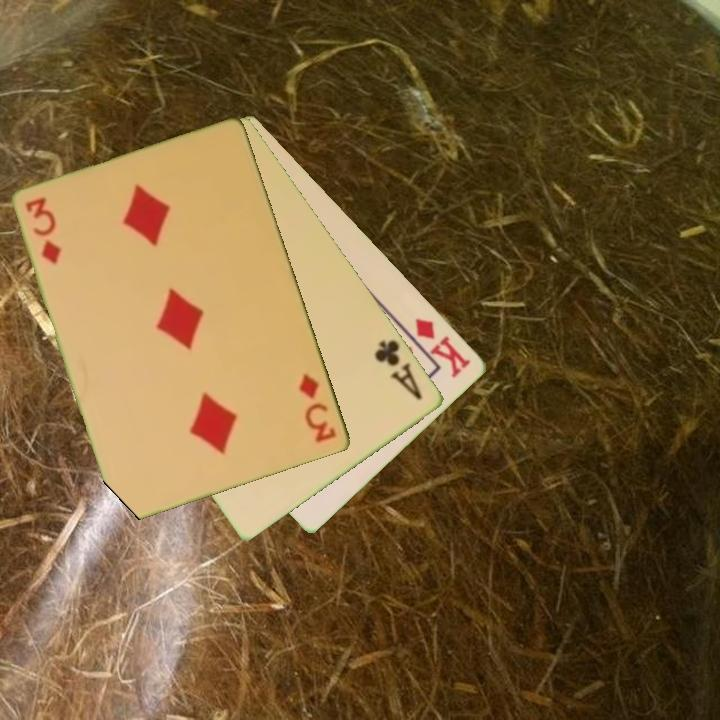3d: (296, 370, 340, 446), (22, 194, 66, 267)
Ac: (371, 336, 426, 403)
Kd: (412, 314, 475, 382)
